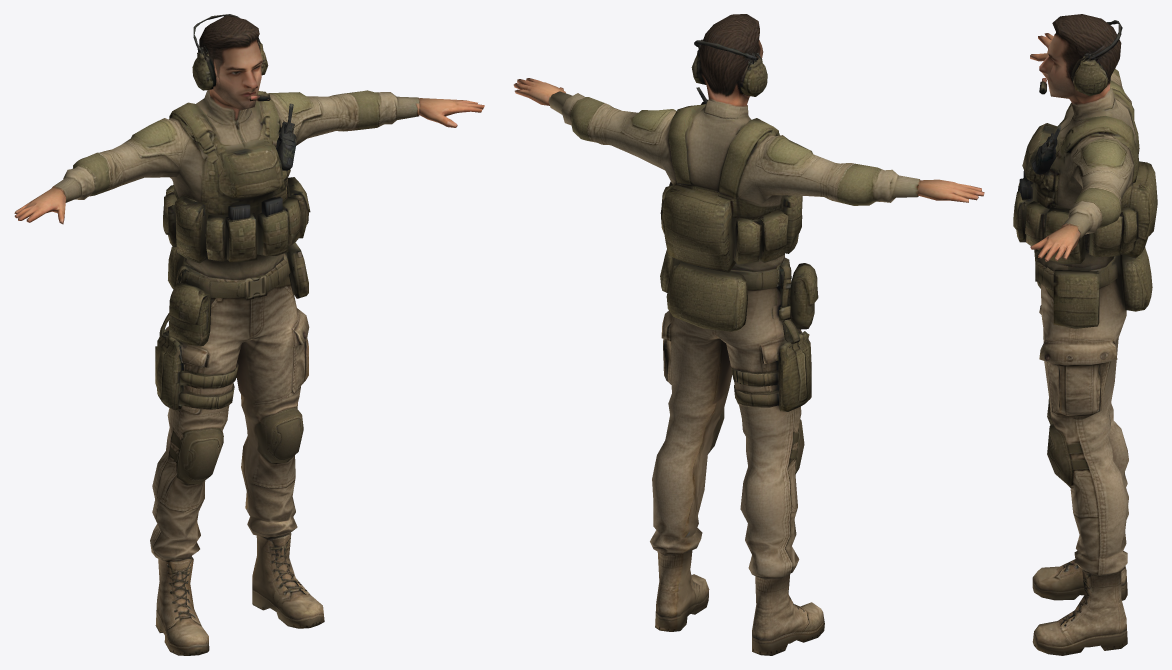
Rendered from tezhong2boy.glb.
3 renders of one model, left to right at view 1: azimuth 30°, elevation 25°; view 2: azimuth 150°, elevation 25°; view 3: azimuth 270°, elevation 25°, orthographic.
Visible parts, largest first — view 1: tripo_node_73dc0d27-a01b-4bbf-9cbb-cae885f31605; view 2: tripo_node_73dc0d27-a01b-4bbf-9cbb-cae885f31605; view 3: tripo_node_73dc0d27-a01b-4bbf-9cbb-cae885f31605.
Part boxes in pixels (box(x1,y1,x2,y2)): tripo_node_73dc0d27-a01b-4bbf-9cbb-cae885f31605: box(14, 14, 484, 655); tripo_node_73dc0d27-a01b-4bbf-9cbb-cae885f31605: box(513, 14, 984, 655); tripo_node_73dc0d27-a01b-4bbf-9cbb-cae885f31605: box(1013, 14, 1157, 655).
Size of the model in its own units: 0.8027 by 0.998 by 0.2168.
Materials: 1 (1 with a texture image).
